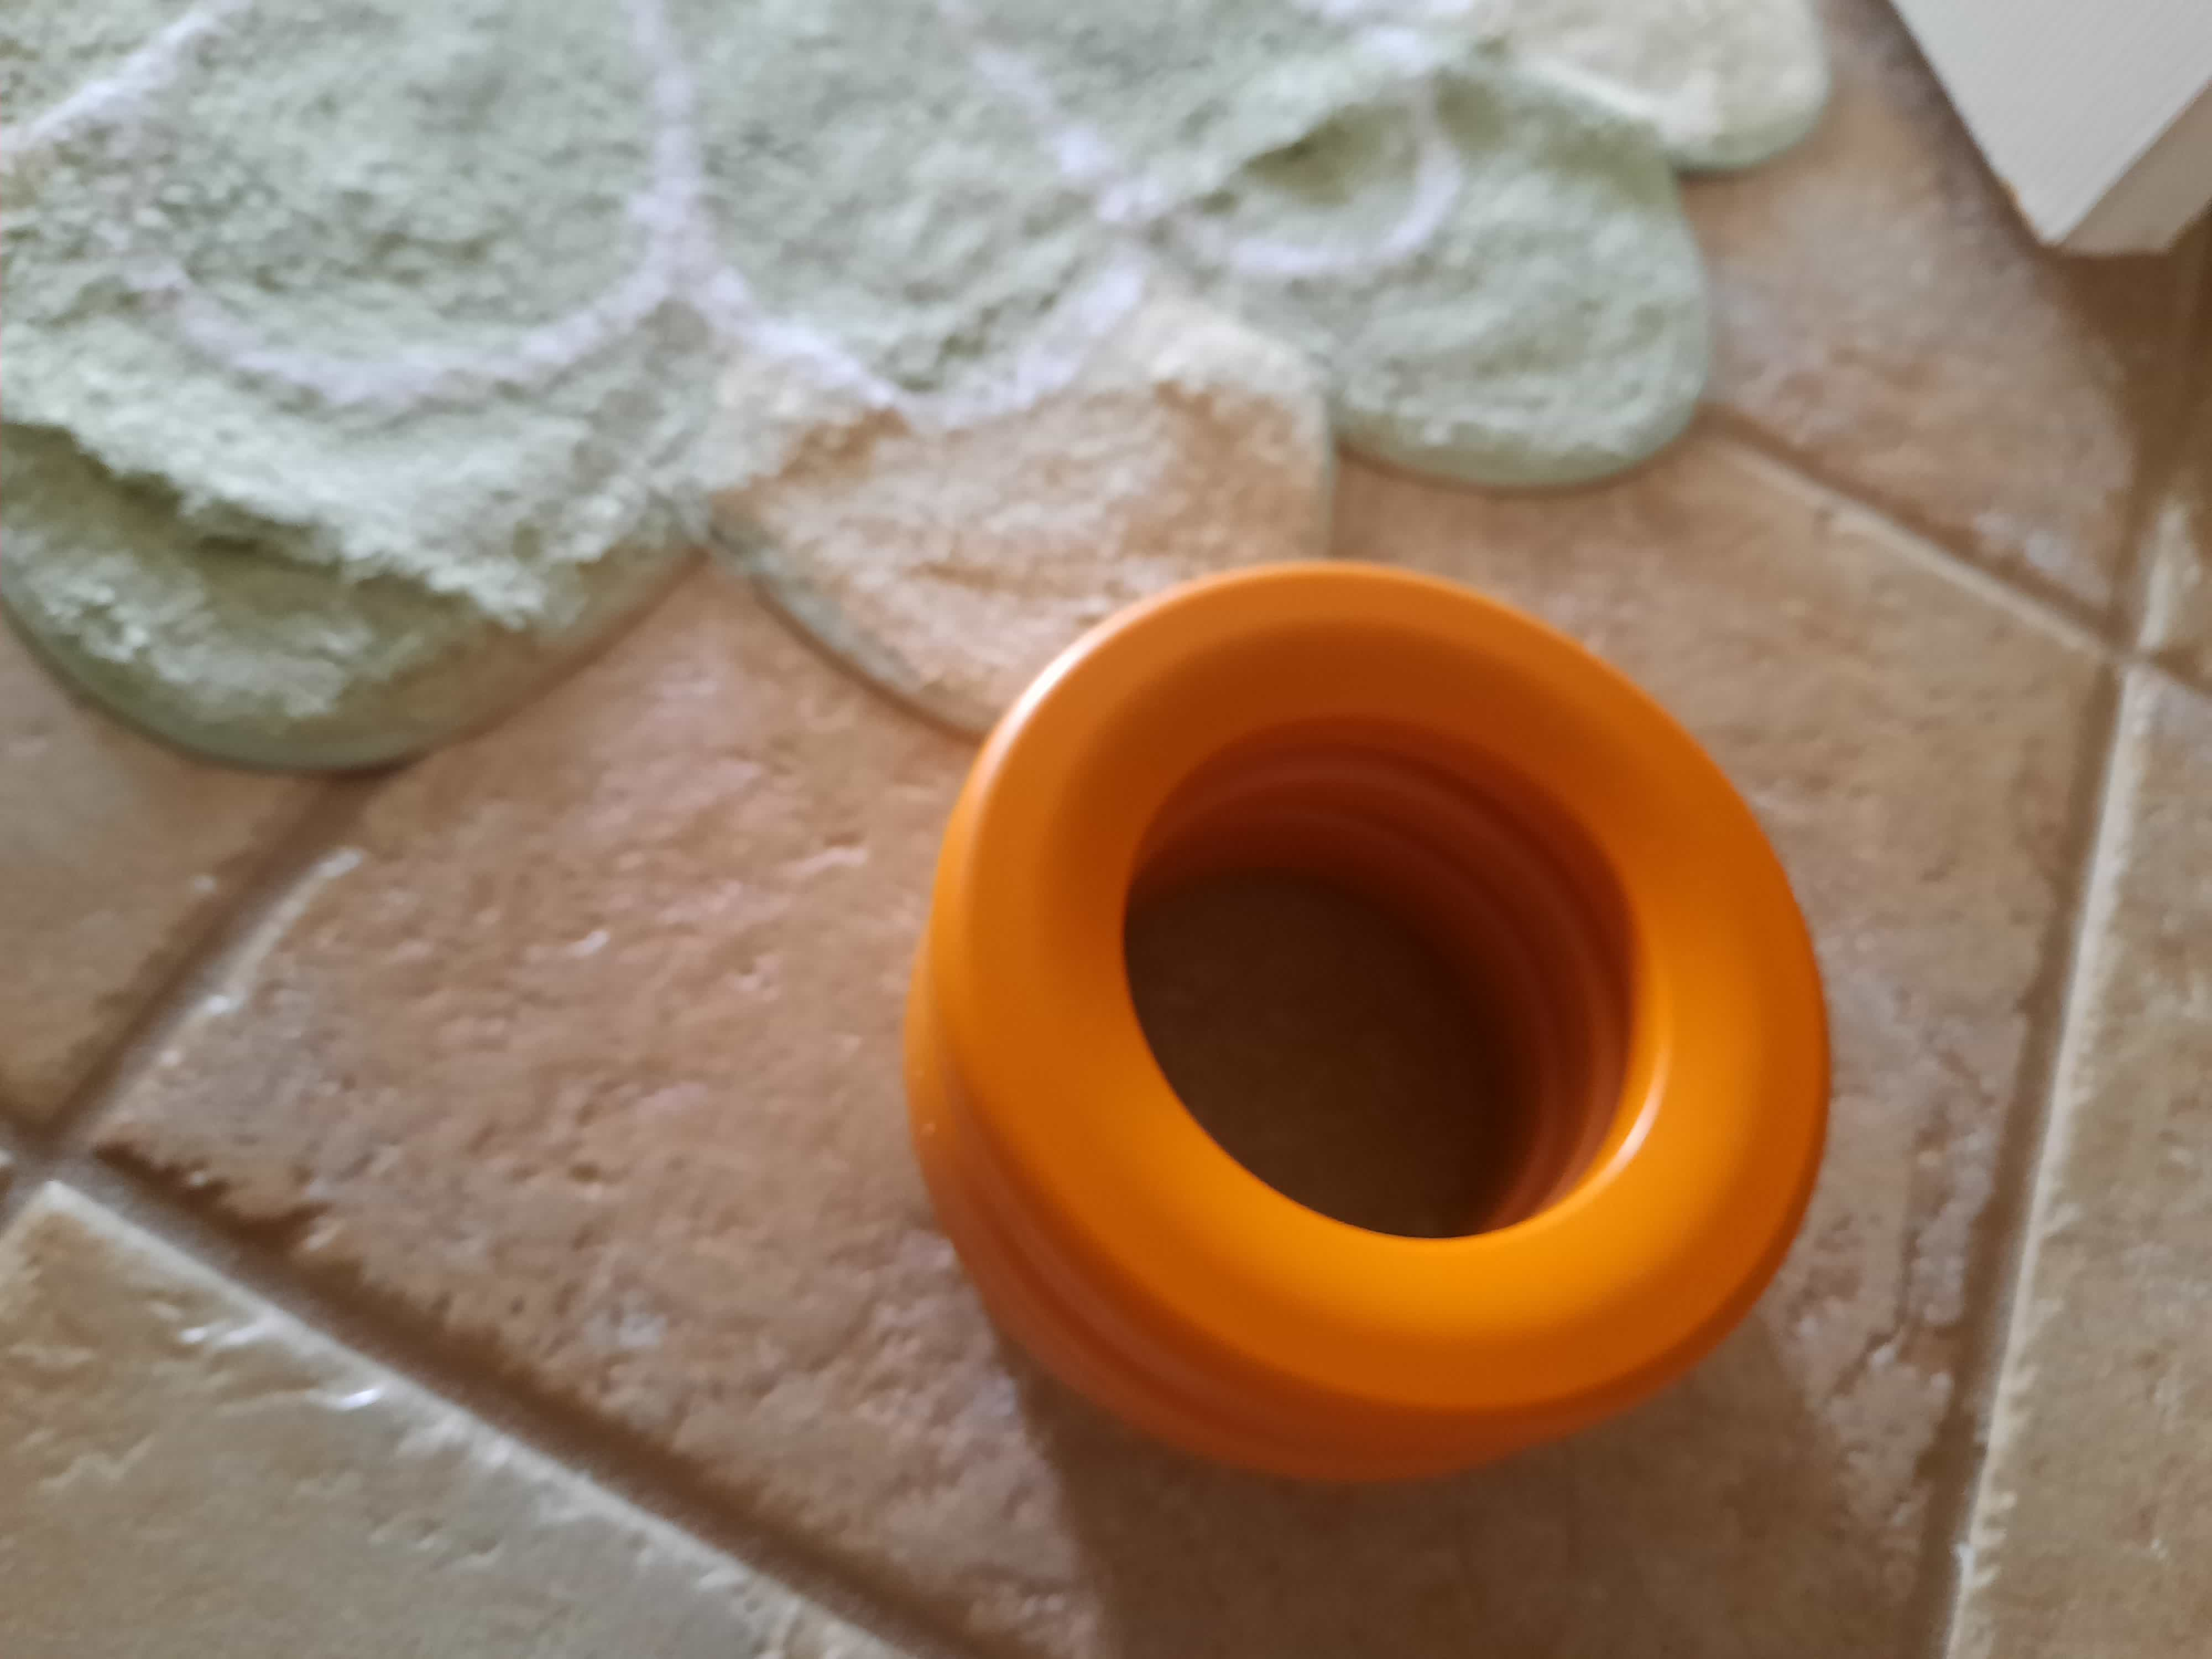FourStack: (907, 577, 1834, 1516)
